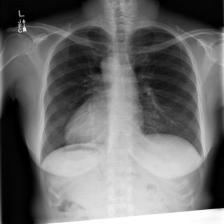normal: (41, 22, 208, 174)
